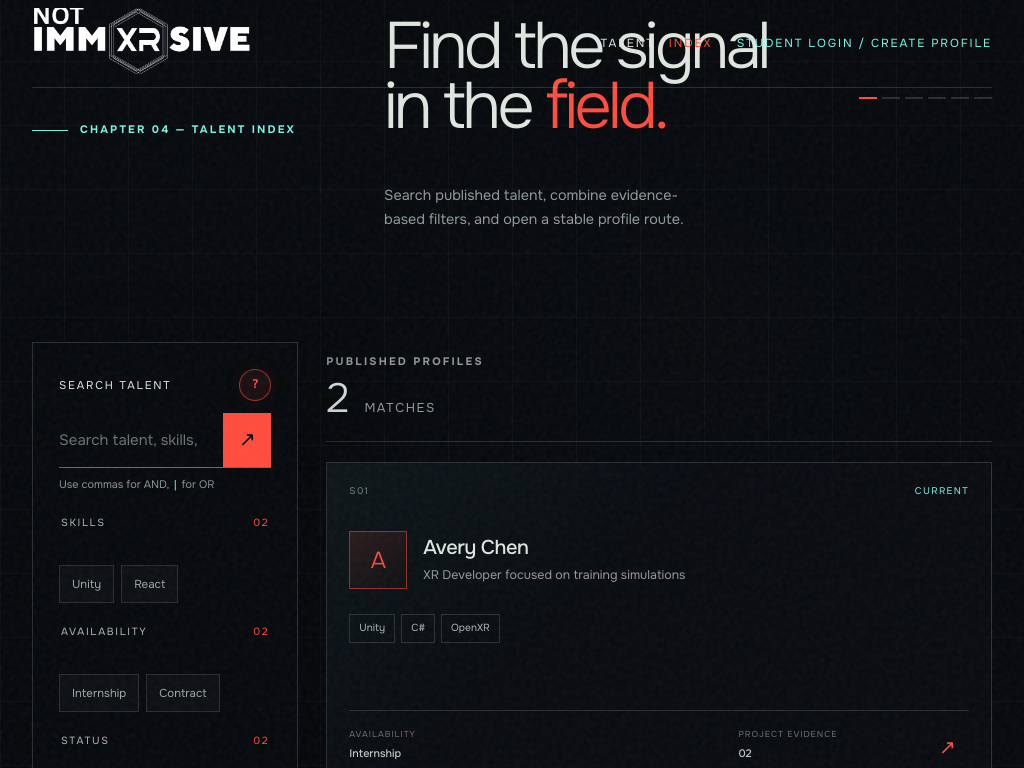
talent directory › opens accessible search tips by hover, click, keyboard, Escape, and outside click
The image size is (1024, 768).
(page scrolled)
Expected: the heading "Avery Chen" is shown, [423,535,528,560]
Hover over the button named "Search tips" at {"x": 255, "y": 385}, box [239,369,271,401]
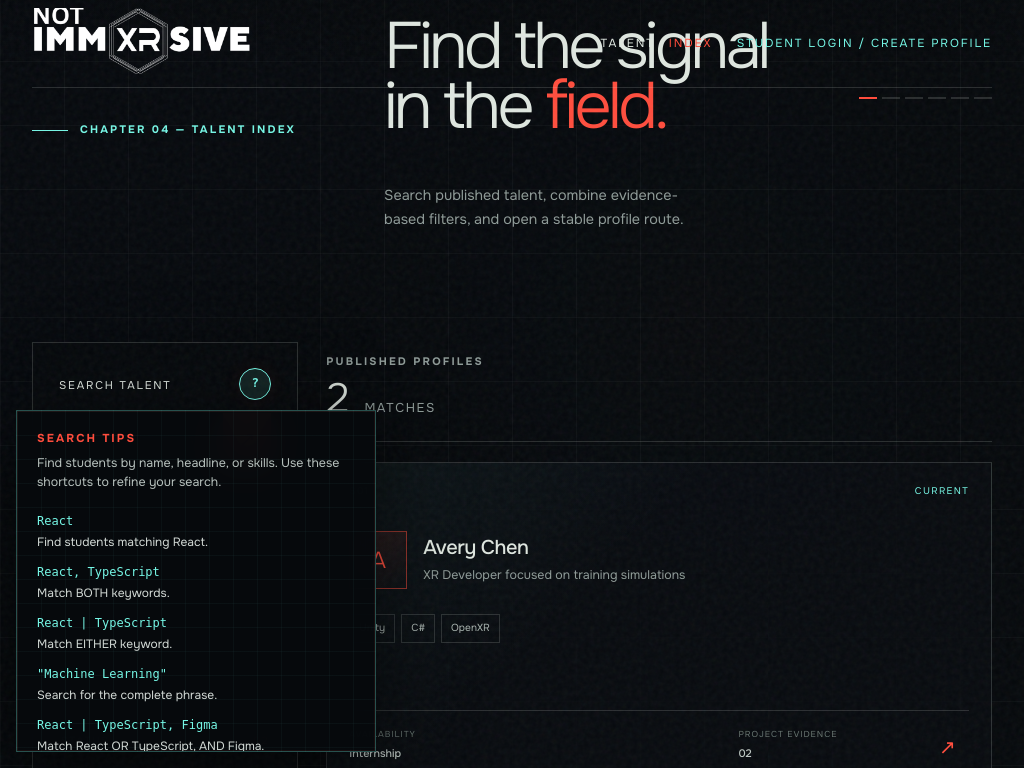
Expected: the element "Search tips" is shown
Expected: the text "Match BOTH keywords." is shown, [37,584,170,600]
Hover over the element "Search tips" at {"x": 196, "y": 581}, box [16,410,376,752]
Expected: the element "Search tips" is shown, [16,410,376,752]
Click the button named "Search tips" at {"x": 255, "y": 384}, box [239,368,271,400]
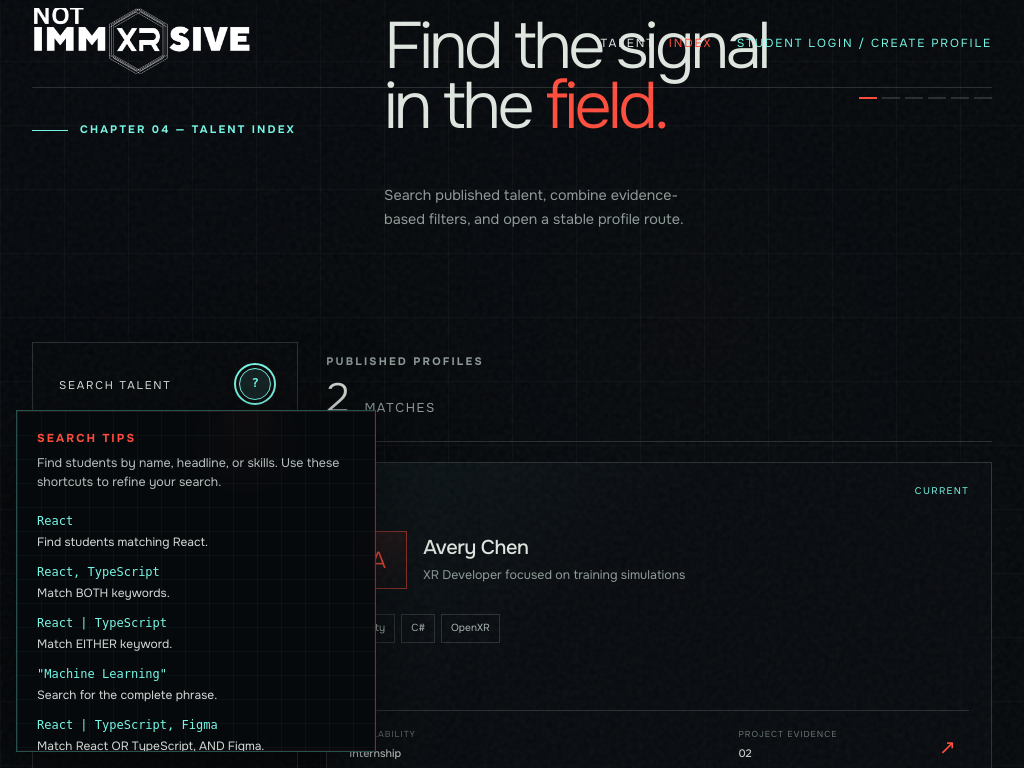
Expected: the button named "Search tips" is expanded, [239,368,271,400]
Press Escape
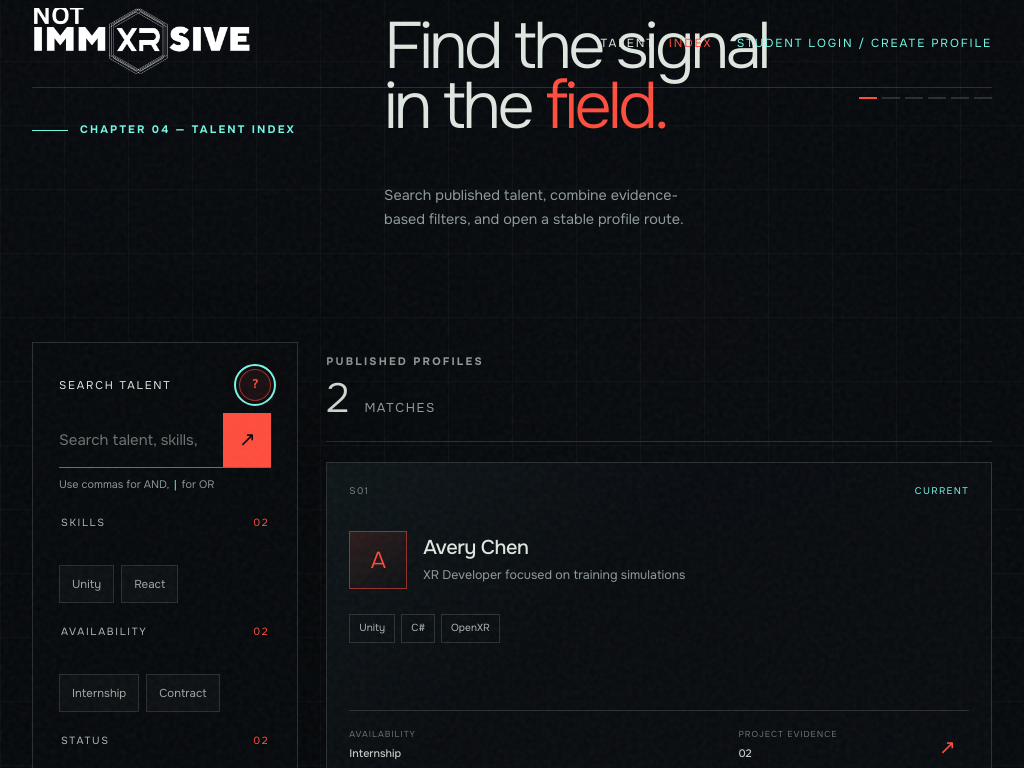
Expected: the text "Search tips" is gone
Press Enter
(page scrolled)
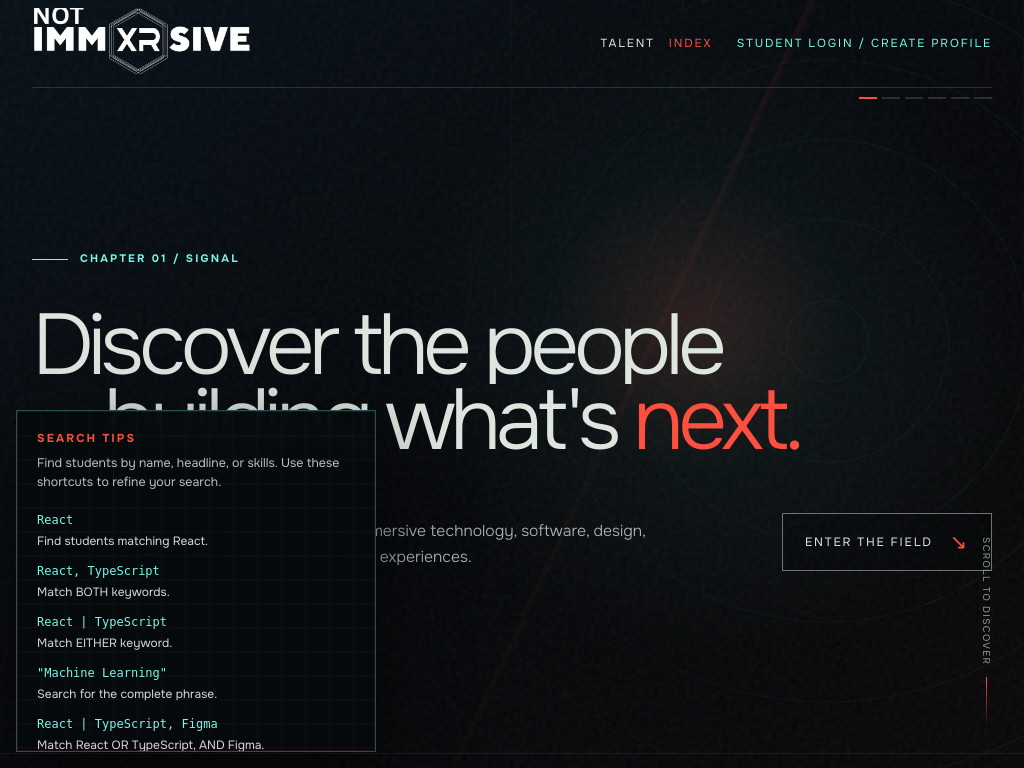
Expected: the element "Search tips" is shown, [16,410,376,752]
Click the heading "Discover the people building what's next." at {"x": 416, "y": 383}, box [32,291,799,475]
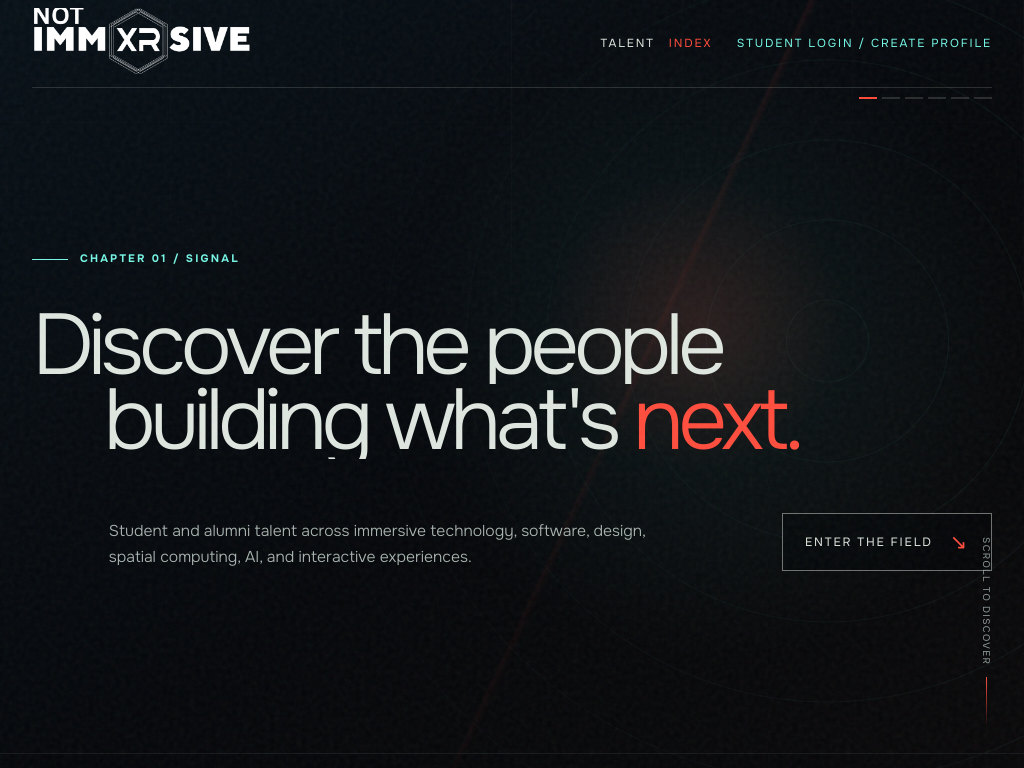
Expected: the text "Search tips" is gone
